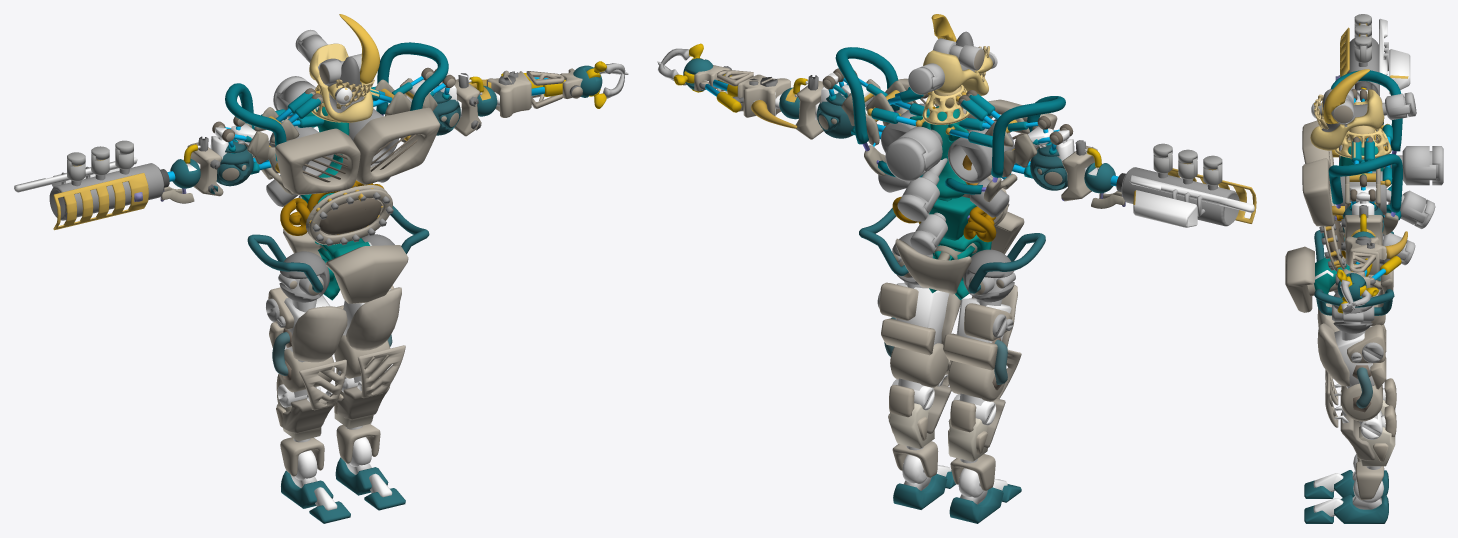
File: BrainStem.gltf
The picture shows the model from 3 angles, left to right: view 1: azimuth 30°, elevation 25°; view 2: azimuth 150°, elevation 25°; view 3: azimuth 270°, elevation 25°; orthographic projection. The views are drawn at different scales.
Parts seen in each view (by area): view 1: Figure_2_geometry; view 2: Figure_2_geometry; view 3: Figure_2_geometry.
Boxes of the visible parts, x1=… form: Figure_2_geometry: x1=14, y1=14, x2=628, y2=523; Figure_2_geometry: x1=657, y1=14, x2=1256, y2=523; Figure_2_geometry: x1=1285, y1=14, x2=1443, y2=523.
Bounding box in the file's own units: 2.41 × 1.83 × 0.5971.
